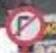Cam re: (6, 6, 43, 45)
